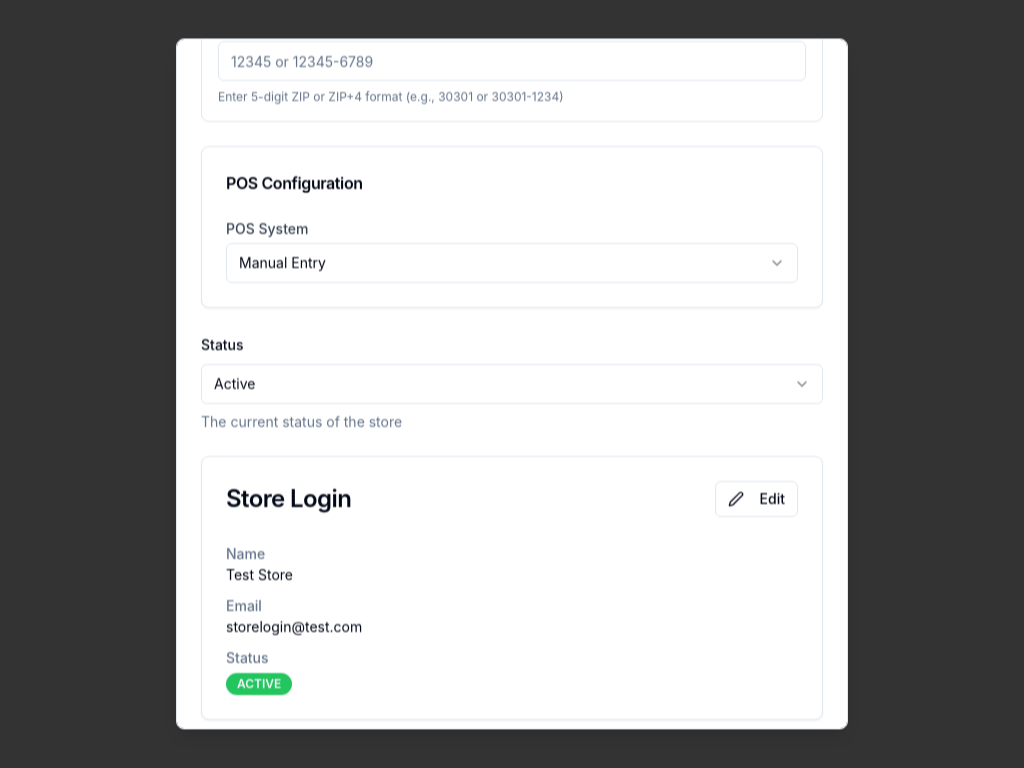
Test case: 2.5-COMPONENT: EditStoreModal Component › Status Change Confirmation › [P0] 2.5-COMPONENT-007: should show confirmation dialog when status changes to INACTIVE
This screenshot has width=1024, height=768.
(page scrolled)
Note: User changes status to INACTIVE
Click the dropdown named "Status" at (235, 384), box [201,364,823,404]
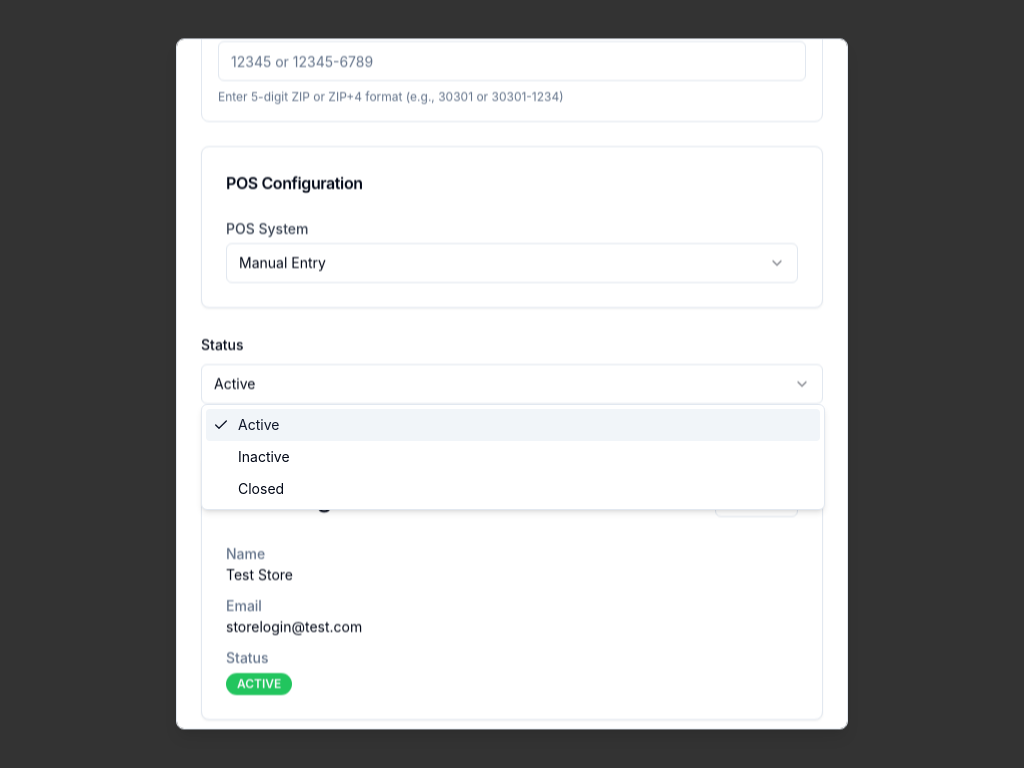
Note: Use getByRole to find the option in the dropdown
Click the option "Inactive" at (264, 456), box [238,448,290,465]
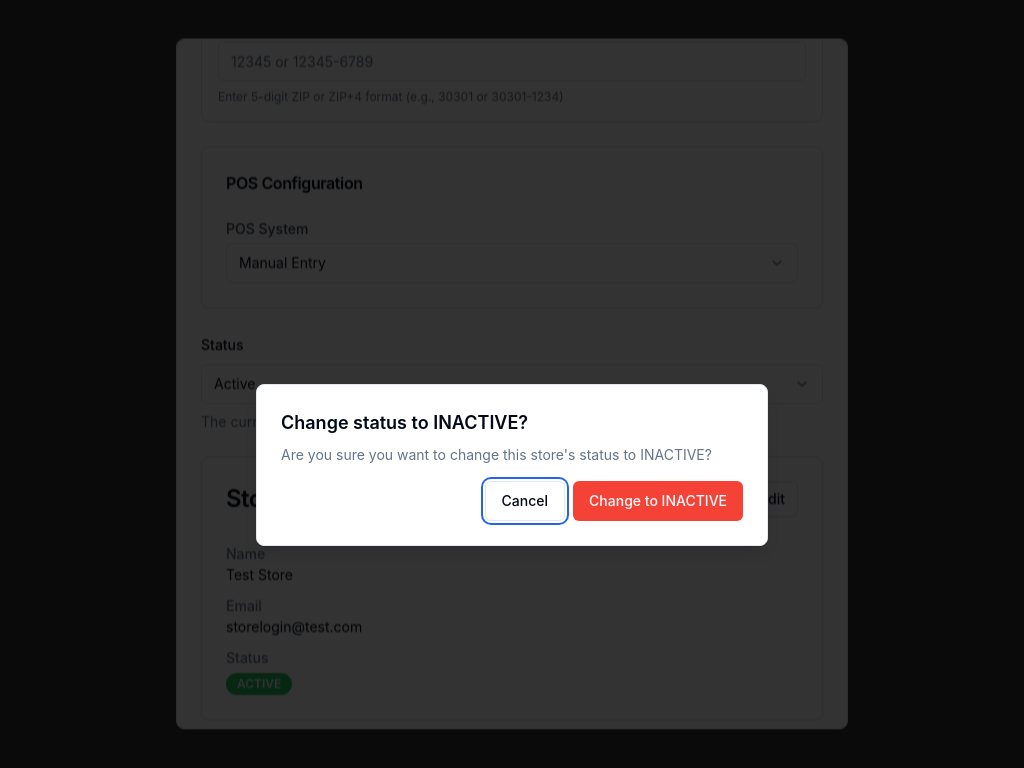
Check: the heading "Change status to INACTIVE?" is shown, box [281,412,528,433]
Check: the text "Are you sure you want to change this store's status to INACTIVE" is shown, box [281,446,712,463]
